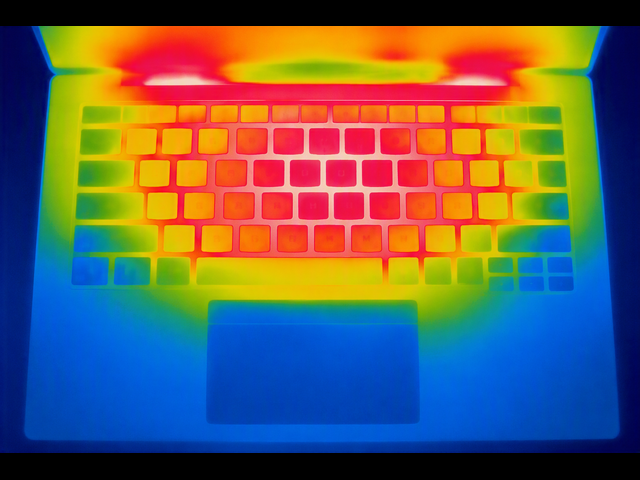c_cover: (28, 72, 620, 441)
